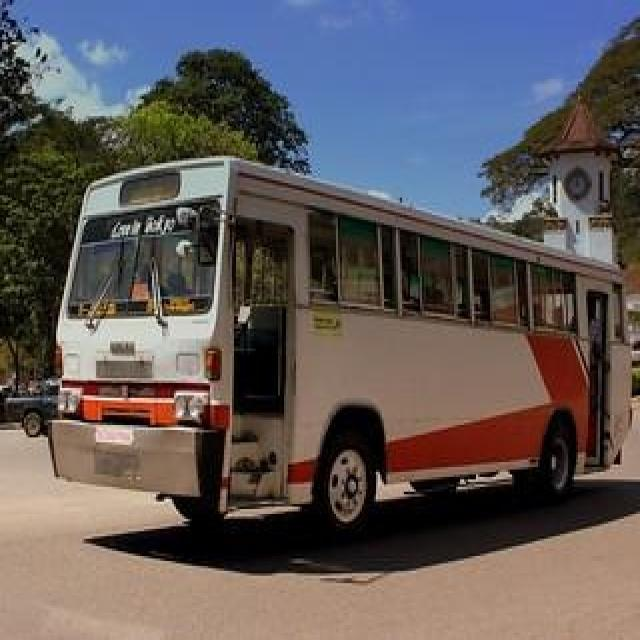Bus: (63, 245, 601, 480)
